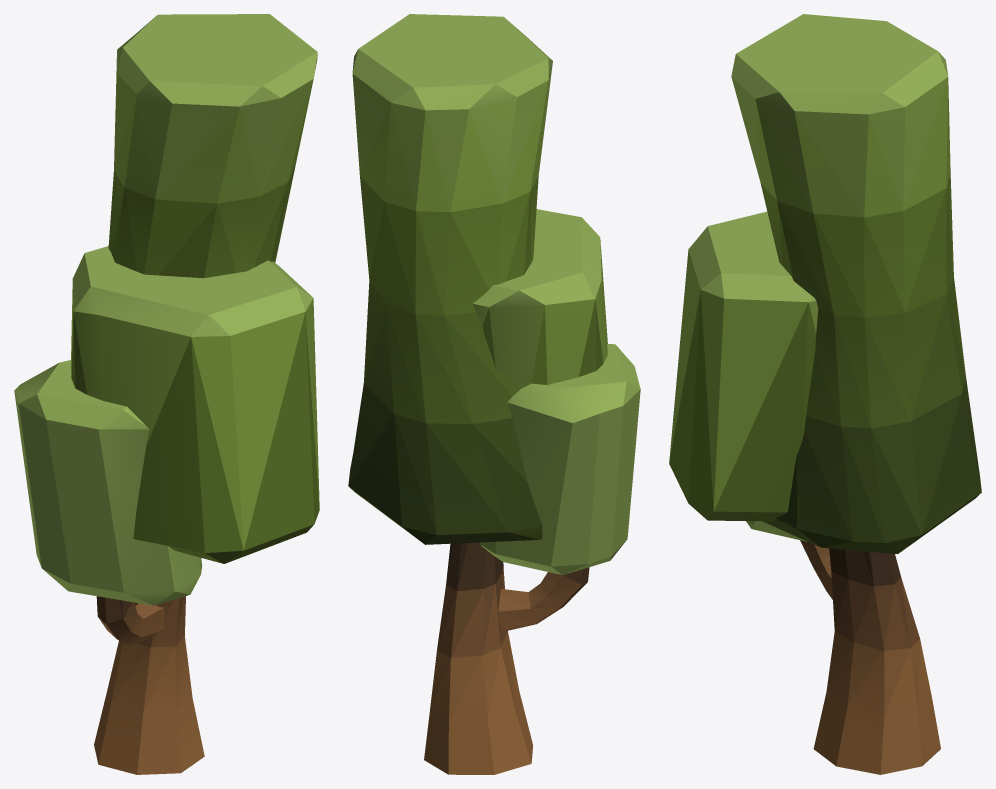
Rendered from angular_tree_stack__spring.glb.
3 renders of one model, left to right at view 1: azimuth 30°, elevation 25°; view 2: azimuth 150°, elevation 25°; view 3: azimuth 270°, elevation 25°, orthographic. The views are drawn at different scales.
Size of the model in its own units: 2.04 by 5 by 1.98.
